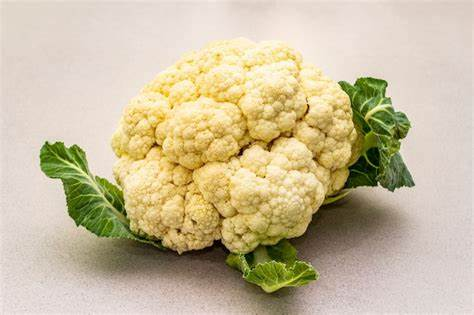Cauliflower: (36, 29, 421, 302)
